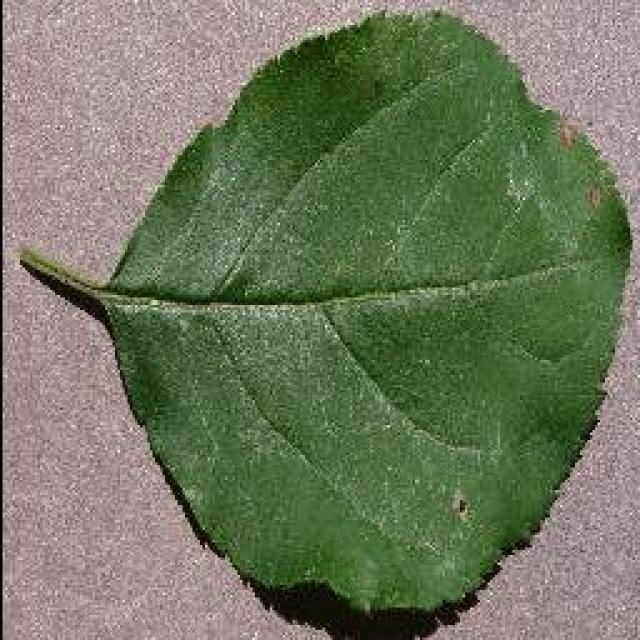Black_rot: (18, 5, 632, 620)
